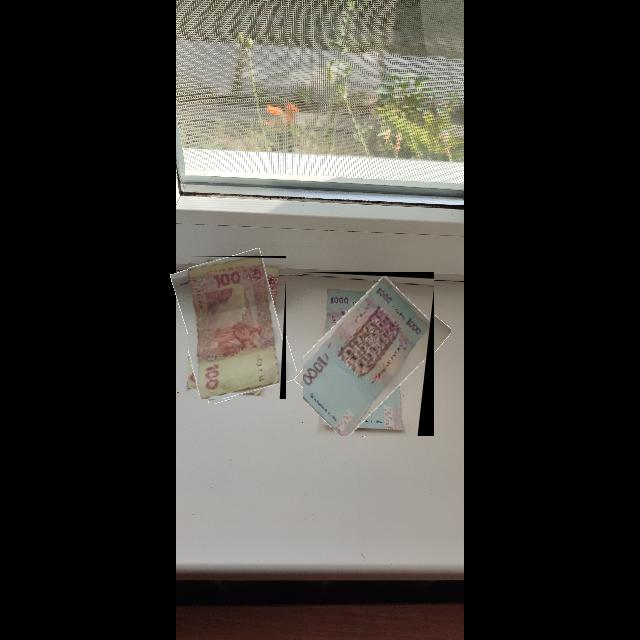1000uah: (303, 276, 432, 437)
100uah: (188, 258, 282, 400)
